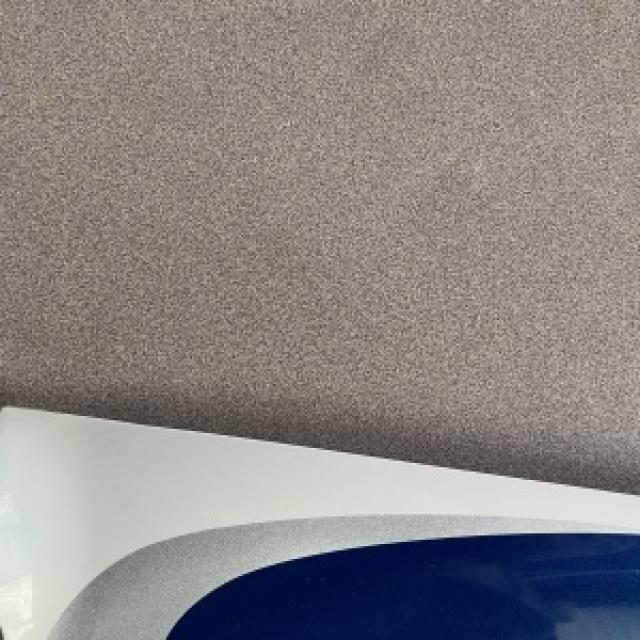healthy: (4, 407, 638, 638)
